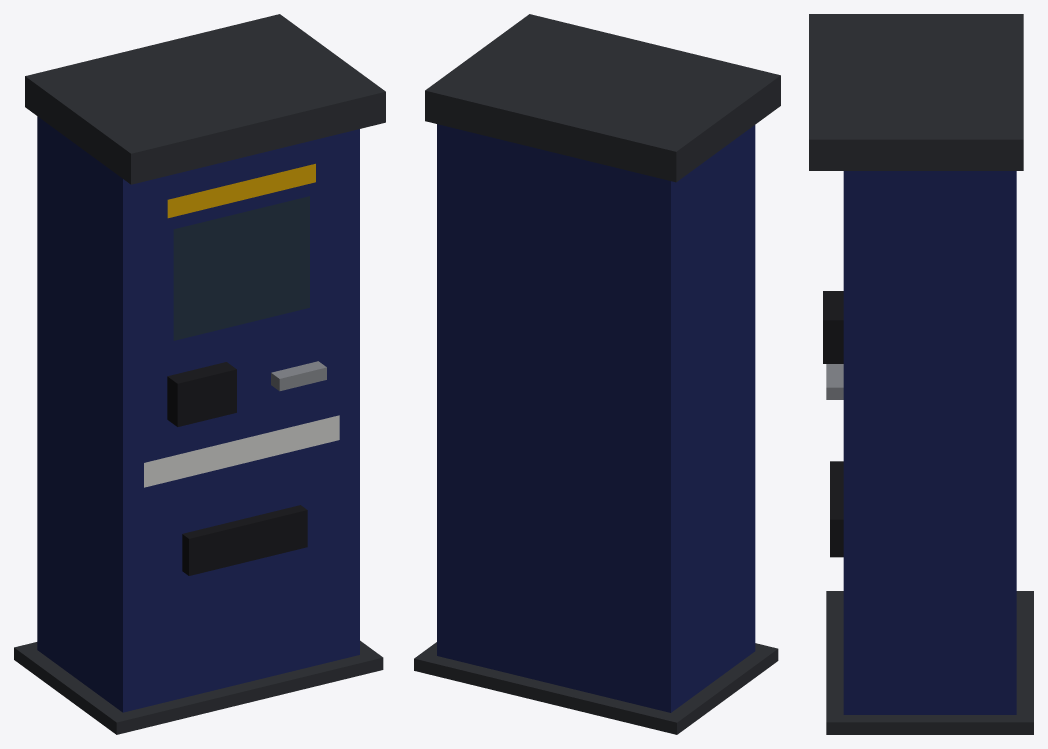
File: prop_ticket-machine.44d92285c444.glb
3 views of the same model, side by side, from view 1: azimuth 30°, elevation 25°; view 2: azimuth 150°, elevation 25°; view 3: azimuth 270°, elevation 25° (orthographic). The views are drawn at different scales.
Visible parts, largest first — view 1: body; view 2: body; view 3: body.
Part boxes in pixels (bbox=[...]): body: bbox=[14, 14, 385, 734]; body: bbox=[414, 14, 780, 734]; body: bbox=[809, 14, 1033, 734].
Size of the model in its own units: 0.9 by 1.89 by 0.65.
